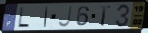3: (114, 4, 131, 29)
6: (76, 5, 91, 27)
I: (43, 6, 50, 28)
J: (57, 5, 73, 29)
L: (16, 6, 31, 29)
T: (98, 5, 112, 27)
